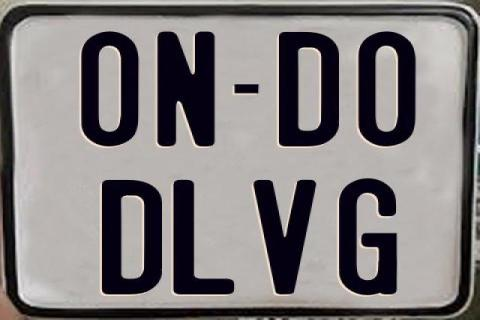0: (81, 31, 144, 149), (358, 30, 422, 146)
D: (278, 31, 339, 151), (100, 178, 162, 294)
G: (337, 178, 399, 298)
L: (171, 178, 236, 298)
N: (154, 29, 213, 147)
V: (250, 180, 314, 299)
